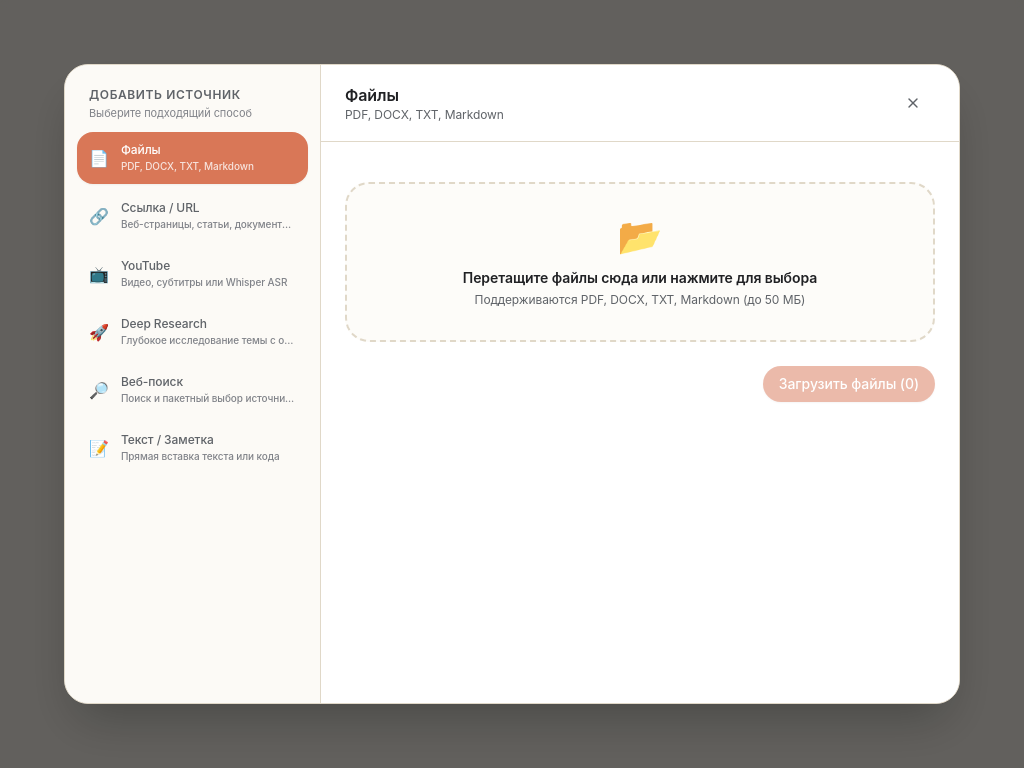
Test: AddSourcesHubDialog › switches to Deep Research tab with settings sliders
Click the button with test id "hub-tab-deep".
click(192, 332)  # box x1=77 y1=306 x2=308 y2=358
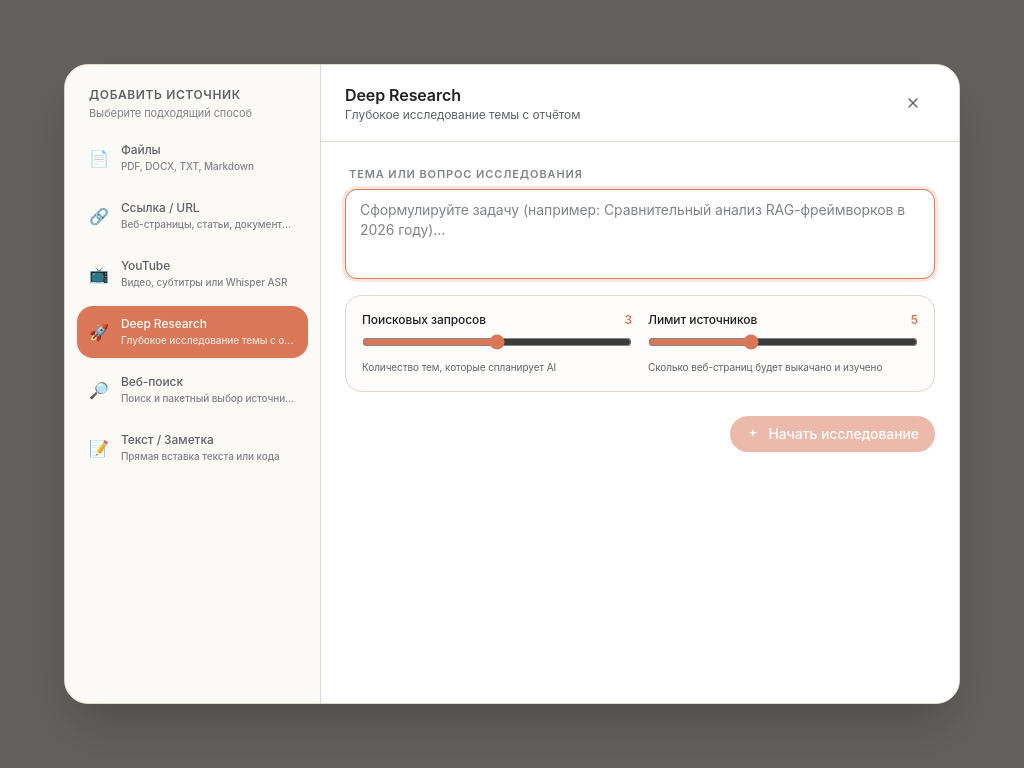
Expected: the text box with placeholder "Сформулируйте задачу" is shown, x1=345 y1=188 x2=935 y2=278
Expected: the text "Поисковых запросов" is shown, x1=362 y1=312 x2=486 y2=328
Expected: the text "Лимит источников" is shown, x1=648 y1=312 x2=757 y2=328
